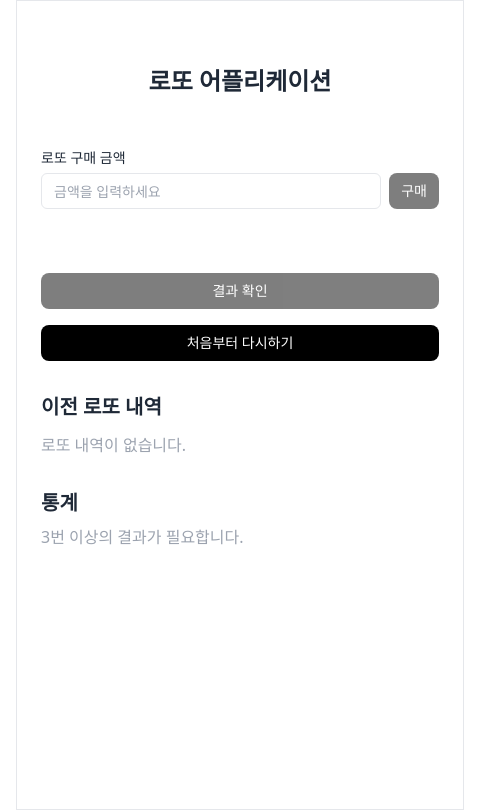
it: 1.2. 당첨 번호와 비교 › 결과 확인 버튼을 클릭하면 생성된 로또 번호와 사용자가 입력한 번호를 비교하여 당첨 결과를 보여줍니다.
The image size is (481, 810).
Type "1000" into the field with test id "lotto-amount-input" at (211, 191), box [41,173,381,209]
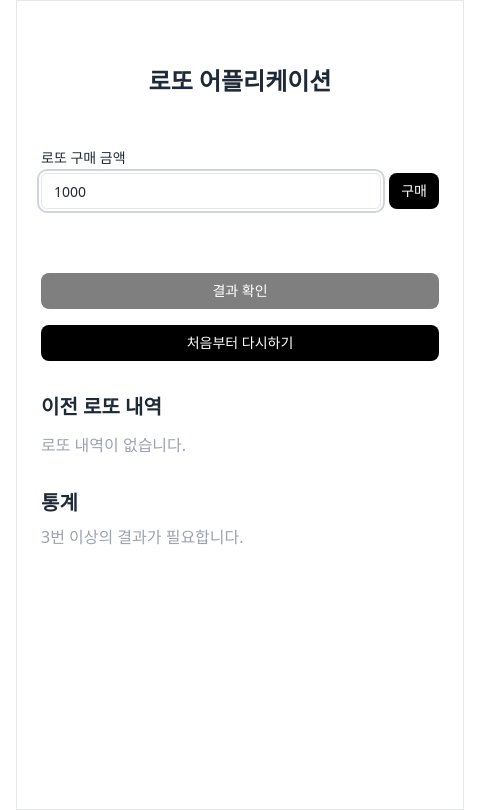
Click the button with test id "lotto-purchase-button" at (414, 191), box [389,173,439,209]
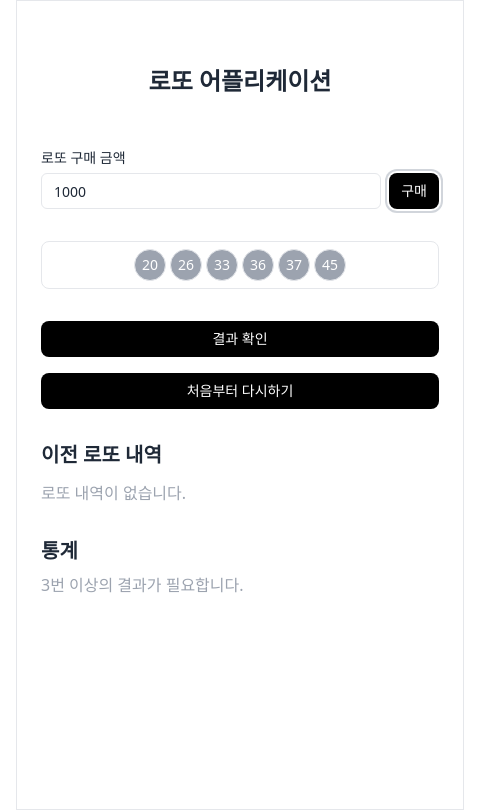
Click the button with test id "show-result-button" at (240, 339), box [41,321,439,357]
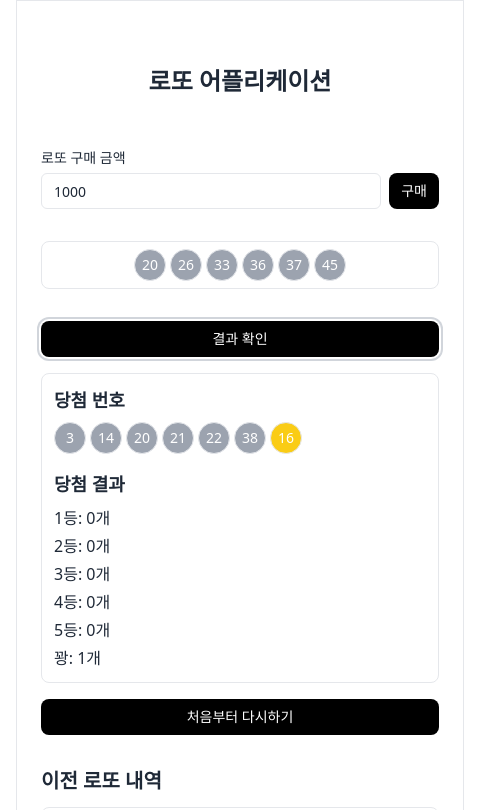
Expected: the element with test id "result" is shown, [41,373,439,683]
